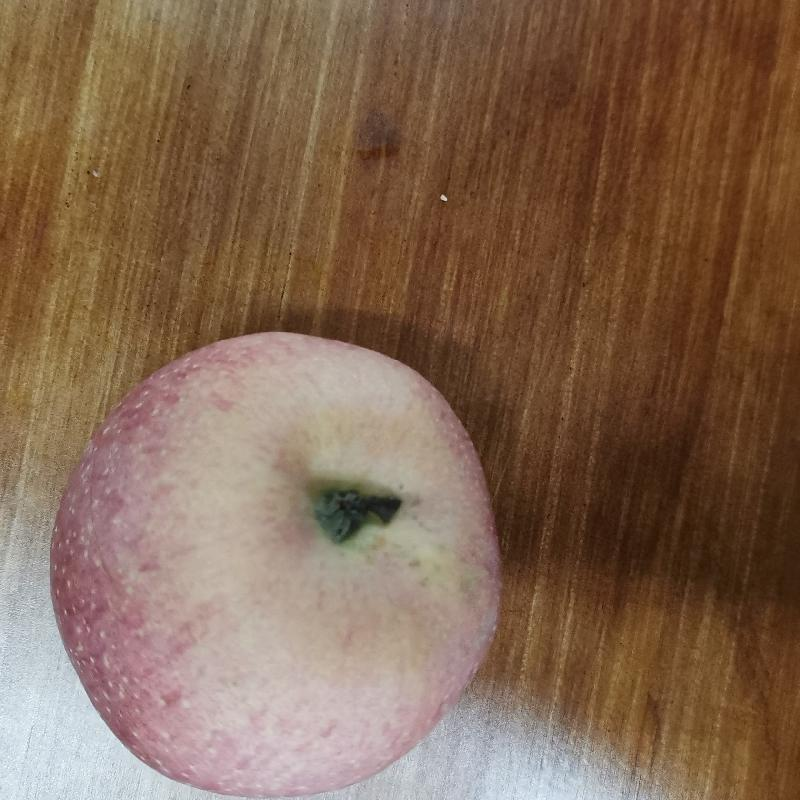apples: (38, 322, 512, 795)
